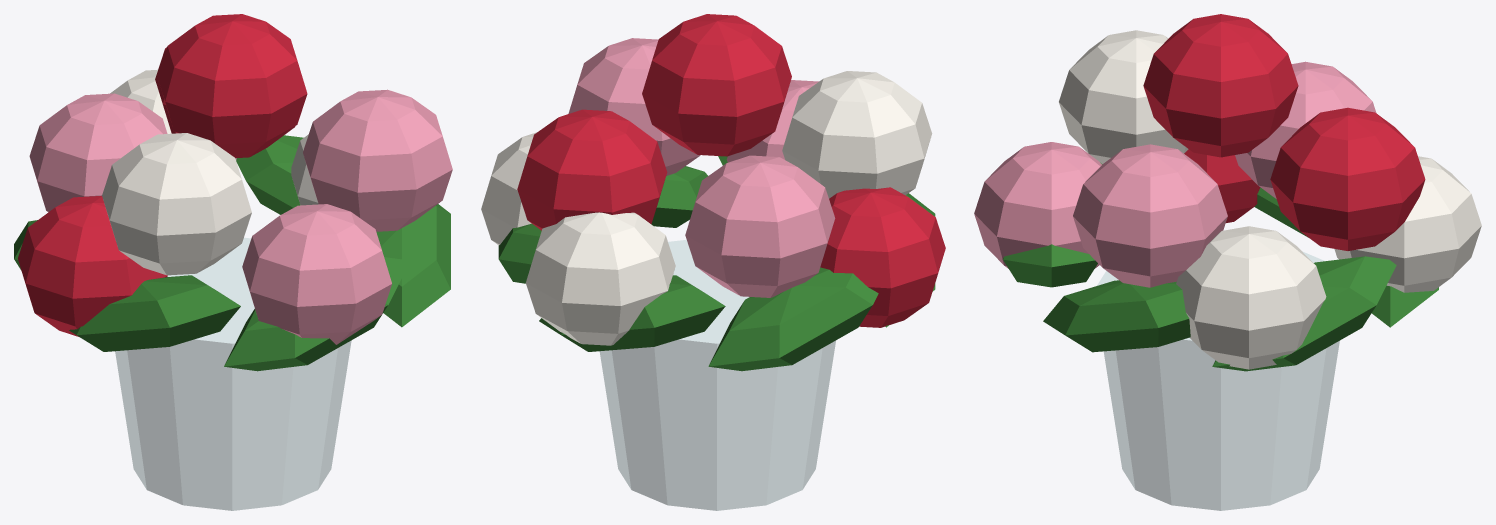
File: flower_centerpiece.glb
3 renders of one model, left to right at view 1: azimuth 30°, elevation 25°; view 2: azimuth 150°, elevation 25°; view 3: azimuth 270°, elevation 25°, orthographic.
Visible parts, largest first — view 1: flowers_centerpiece_pink, vase_centerpiece_glass, flowers_centerpiece_red, flowers_centerpiece_leaf, flowers_centerpiece_white; view 2: flowers_centerpiece_red, vase_centerpiece_glass, flowers_centerpiece_white, flowers_centerpiece_pink, flowers_centerpiece_leaf; view 3: flowers_centerpiece_red, flowers_centerpiece_white, flowers_centerpiece_pink, vase_centerpiece_glass, flowers_centerpiece_leaf.
Part boxes in pixels (x1,y1,x2,y2): flowers_centerpiece_pink: (29,89,452,344); vase_centerpiece_glass: (115,237,351,510); flowers_centerpiece_red: (18,14,307,336); flowers_centerpiece_leaf: (14,135,450,371); flowers_centerpiece_white: (102,69,318,275); flowers_centerpiece_red: (517,14,945,327); vase_centerpiece_glass: (600,240,835,510); flowers_centerpiece_white: (481,71,932,345); flowers_centerpiece_pink: (568,38,835,297); flowers_centerpiece_leaf: (498,156,935,371); flowers_centerpiece_red: (1143,14,1425,250); flowers_centerpiece_white: (1059,30,1481,369); flowers_centerpiece_pink: (974,61,1376,287); vase_centerpiece_glass: (1097,252,1339,510); flowers_centerpiece_leaf: (1002,162,1438,371).
Size of the model in its own units: 0.35 by 0.35 by 0.36.
